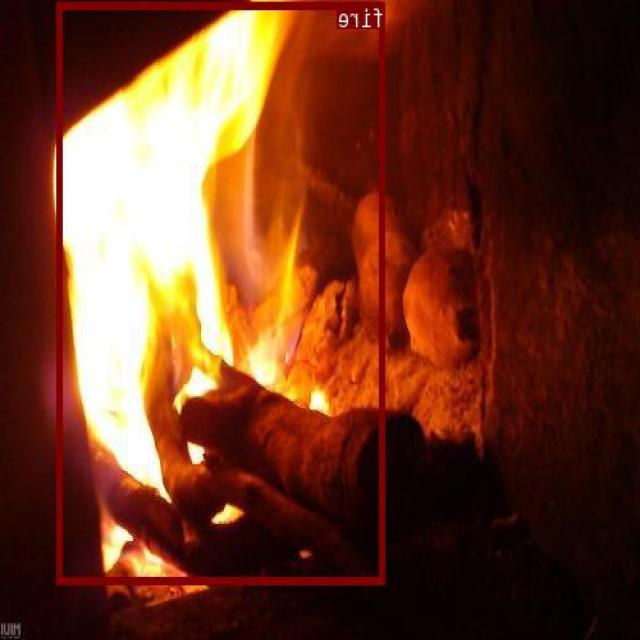fire: (58, 1, 386, 582)
